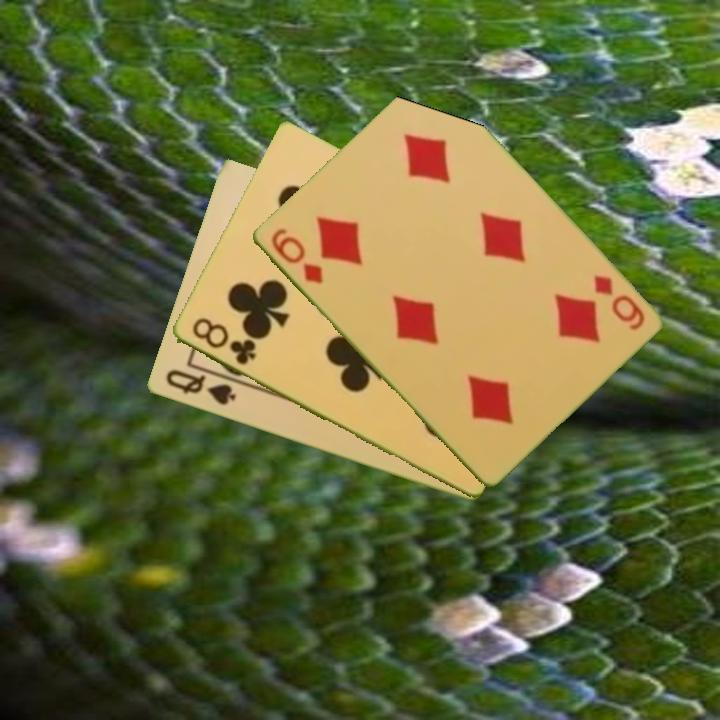6d: (589, 271, 648, 333), (267, 224, 325, 287)
8c: (188, 314, 259, 368)
Qs: (161, 366, 239, 409)
